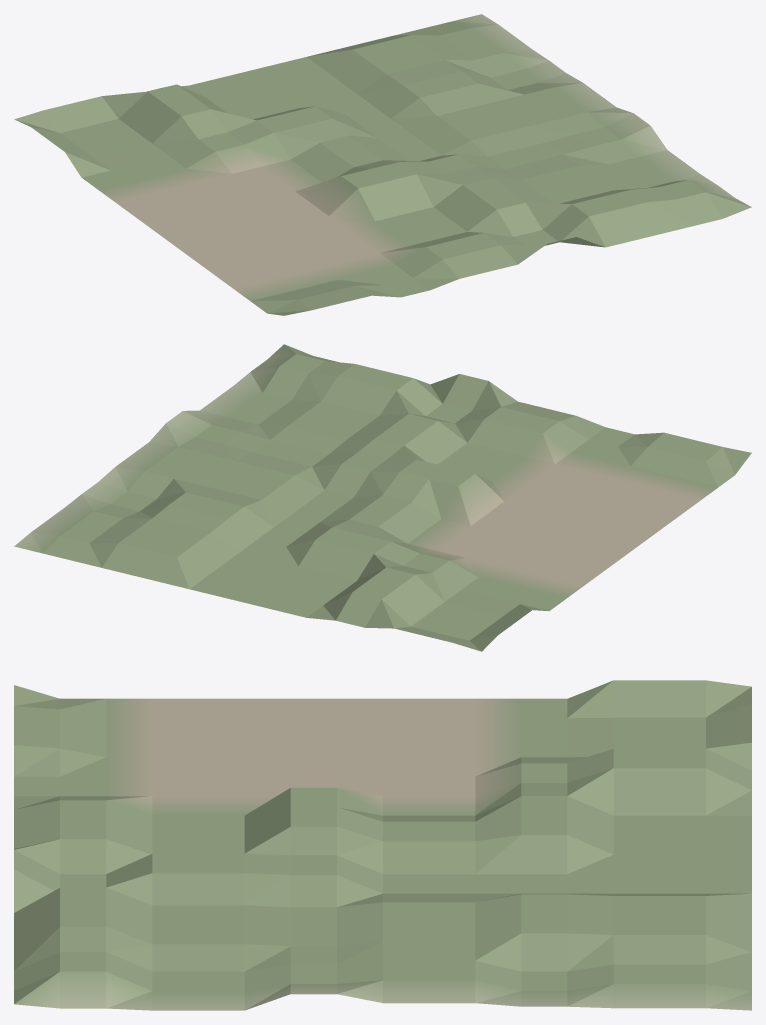
3 views of the same model, one above another, from view 1: azimuth 30°, elevation 25°; view 2: azimuth 150°, elevation 25°; view 3: azimuth 270°, elevation 25° (orthographic). The views are drawn at different scales.
Size of the model in its own units: 32 by 1.34 by 32.
